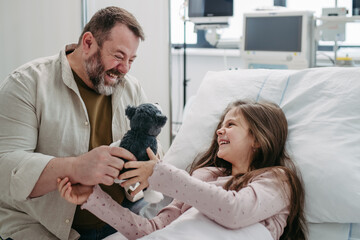family member: (60, 5, 146, 154)
patient: (198, 95, 325, 231)
